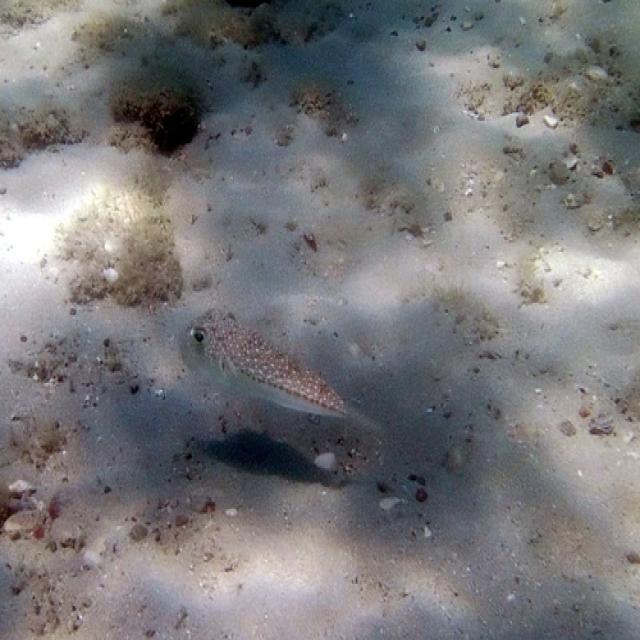Balik: (184, 309, 351, 417)
